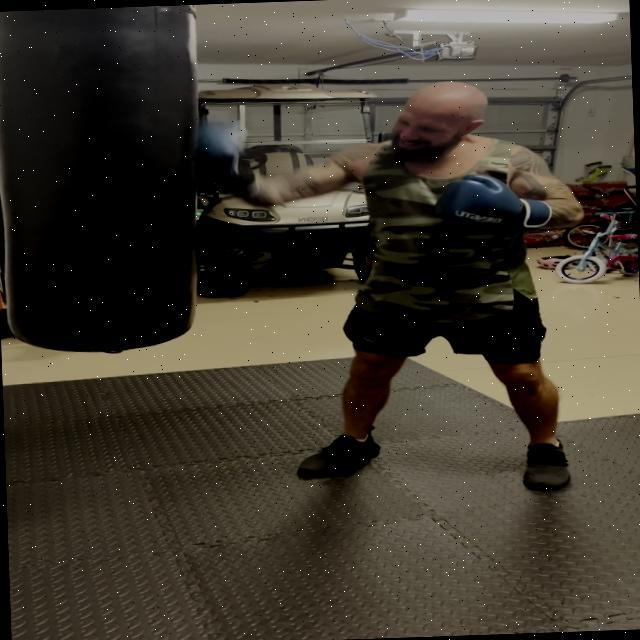punch: (180, 64, 582, 248)
